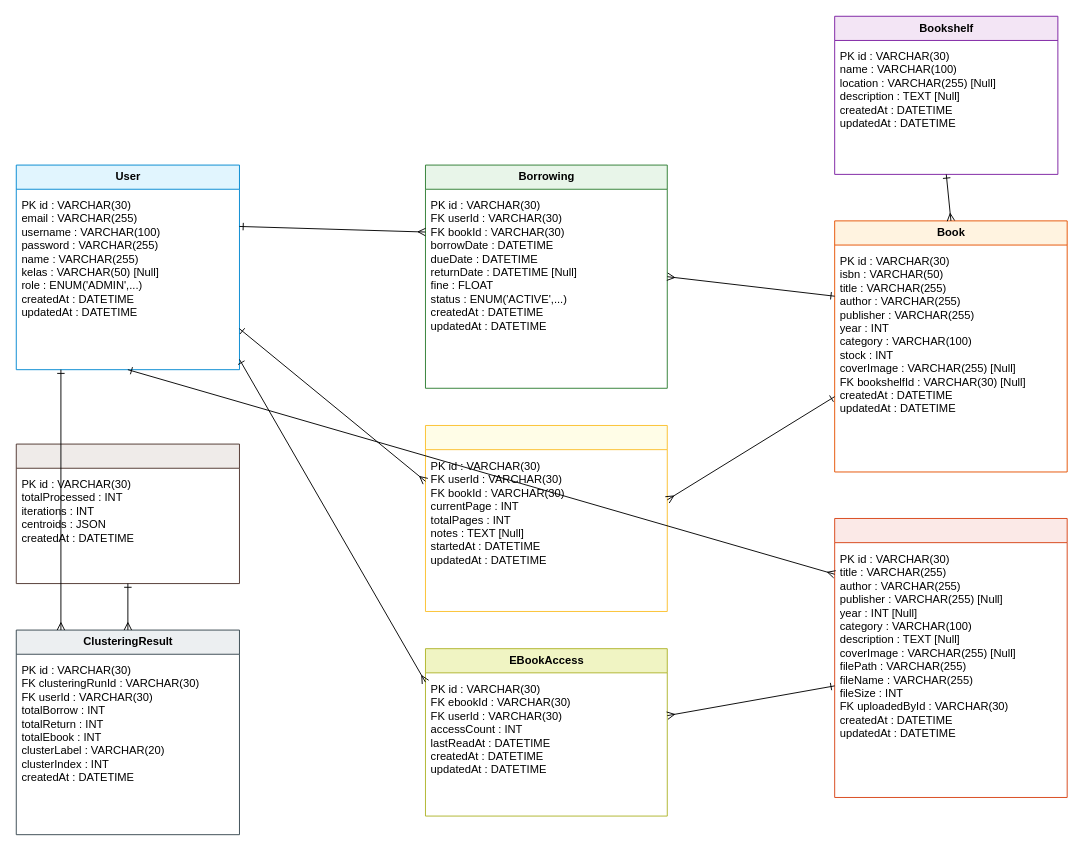
This 1083x851 diagram has some shape labels left out. The shapes that lost their labels are listed below. From the top down, each one's box as (x1, y1, x2, y2) in pixels, then its label:
(15, 443, 239, 584): ClusteringRun
(425, 425, 667, 611): ReadingProgress
(834, 518, 1067, 797): EBook
